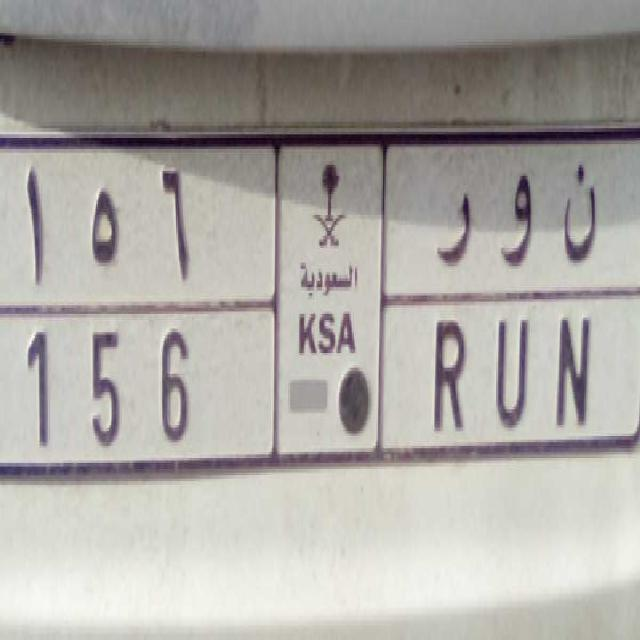license_plate: (5, 301, 615, 470)
